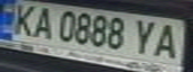0: (51, 8, 78, 44)
8: (106, 15, 130, 52), (90, 12, 112, 48), (72, 11, 93, 46)
A: (148, 20, 187, 60), (27, 5, 57, 39)
K: (6, 1, 42, 37)
Y: (127, 17, 163, 56)
